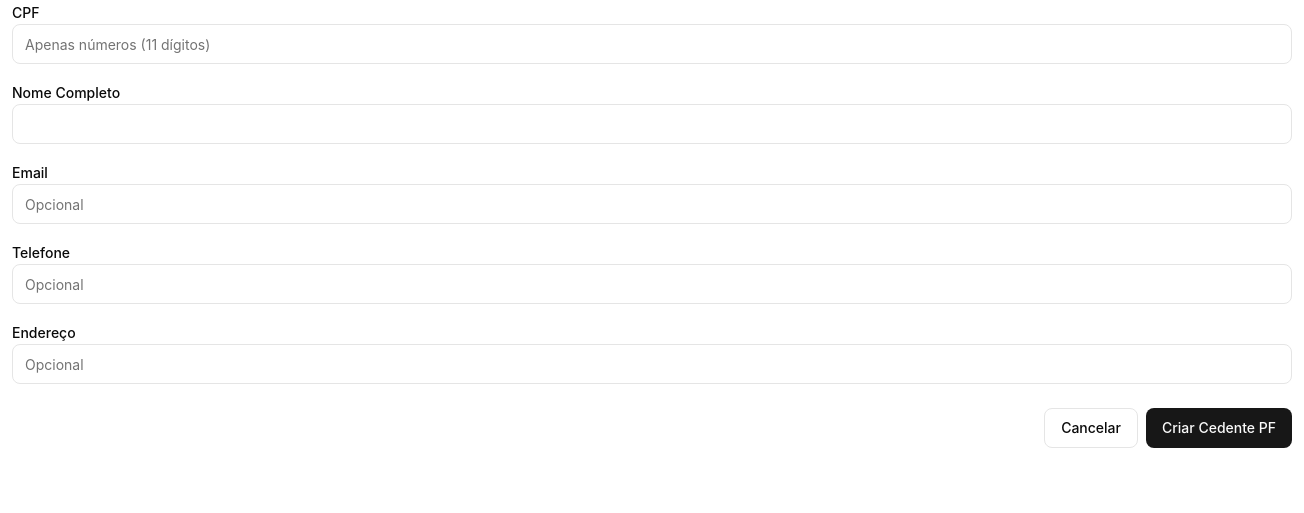
Scenario: CedentePfForm › shows validation error when CPF is empty on submit
The width and height of the screenshot is (1304, 513).
Click the button "Criar Cedente PF" at (1219, 428), box x1=1146 y1=408 x2=1292 y2=448
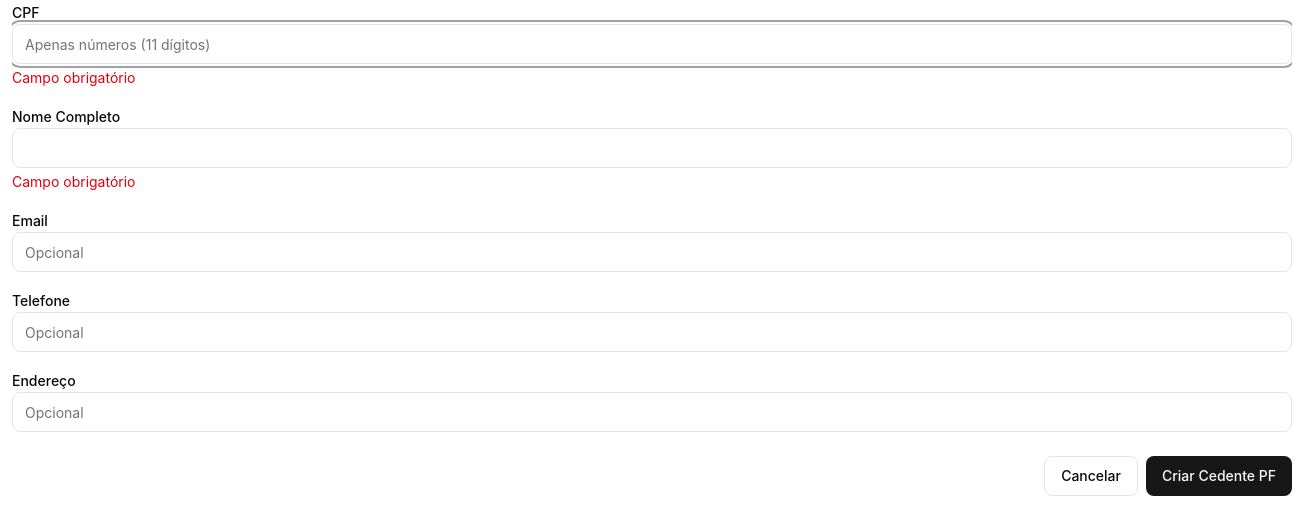
Expected: the text "Campo obrigatório" below "CPF" is shown, x1=12 y1=69 x2=136 y2=86
